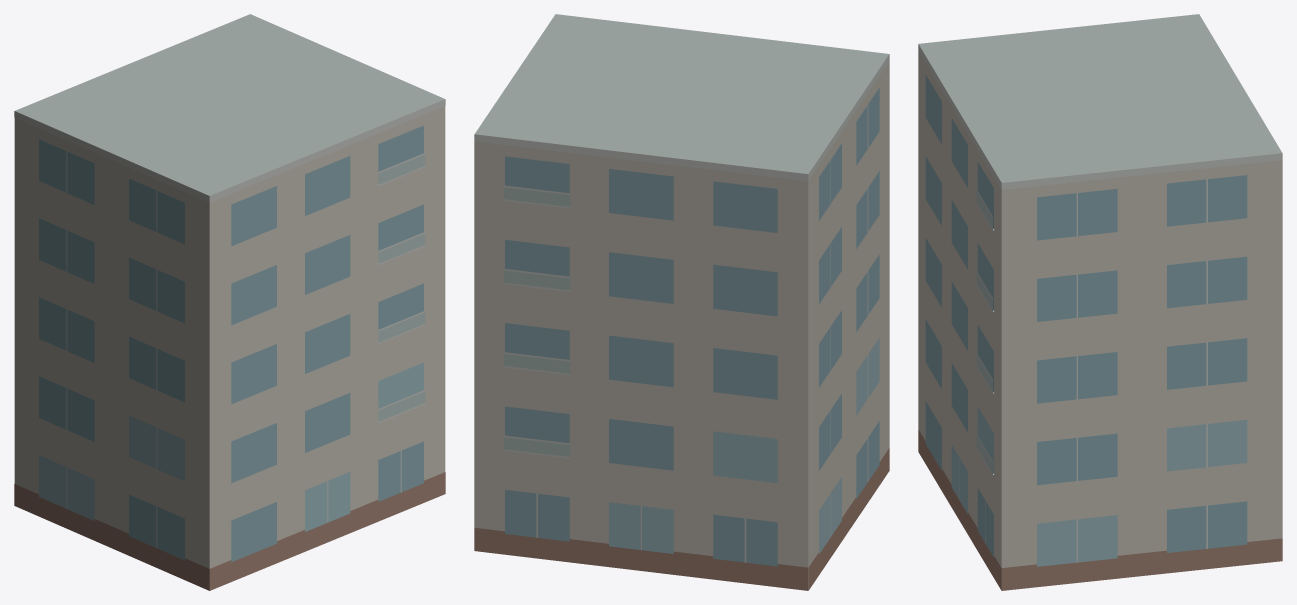
The model's file is survey-upis-32718622.glb.
3 views of the same model, side by side, from view 1: azimuth 30°, elevation 25°; view 2: azimuth 150°, elevation 25°; view 3: azimuth 270°, elevation 25° (orthographic). The views are drawn at different scales.
Parts seen in each view (by area): view 1: survey-upis-32718622.tmp; view 2: survey-upis-32718622.tmp; view 3: survey-upis-32718622.tmp.
Boxes of the visible parts, left/top/right/bottom form: survey-upis-32718622.tmp: left=14, top=14, right=445, bottom=590; survey-upis-32718622.tmp: left=474, top=14, right=889, bottom=590; survey-upis-32718622.tmp: left=918, top=14, right=1282, bottom=590.
Size of the model in its own units: 12.76 by 14.35 by 11.62.
